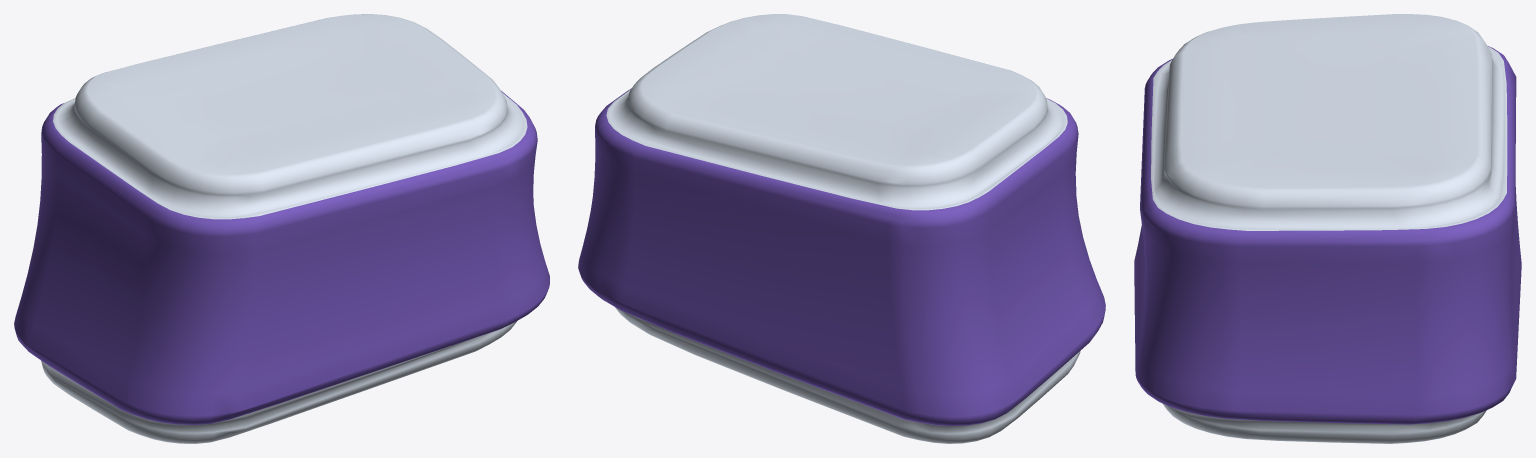
The model's file is SM_Building_03_Version_02_Part_02.fbx.
3 renders of one model, left to right at view 1: azimuth 30°, elevation 25°; view 2: azimuth 150°, elevation 25°; view 3: azimuth 270°, elevation 25°, orthographic. The views are drawn at different scales.
Parts seen in each view (by area): view 1: SM_Building_03_Version_02_Part_02; view 2: SM_Building_03_Version_02_Part_02; view 3: SM_Building_03_Version_02_Part_02.
Part boxes in pixels (x1=…): SM_Building_03_Version_02_Part_02: x1=14, y1=14, x2=549, y2=443; SM_Building_03_Version_02_Part_02: x1=578, y1=14, x2=1105, y2=443; SM_Building_03_Version_02_Part_02: x1=1134, y1=14, x2=1521, y2=443.
Size of the model in its own units: 4302 by 2590 by 3031.
